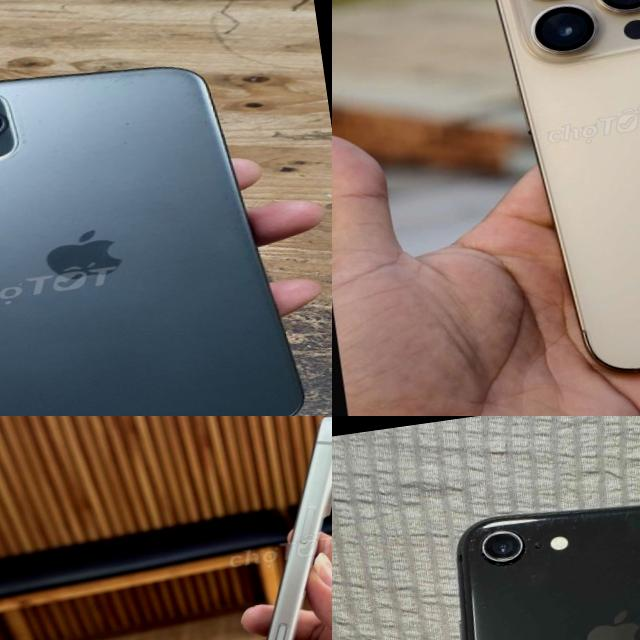gen_11: (0, 31, 332, 416)
gen_14: (476, 0, 640, 390)
gen_17: (194, 416, 332, 640)
gen_7_8: (407, 479, 640, 640)
